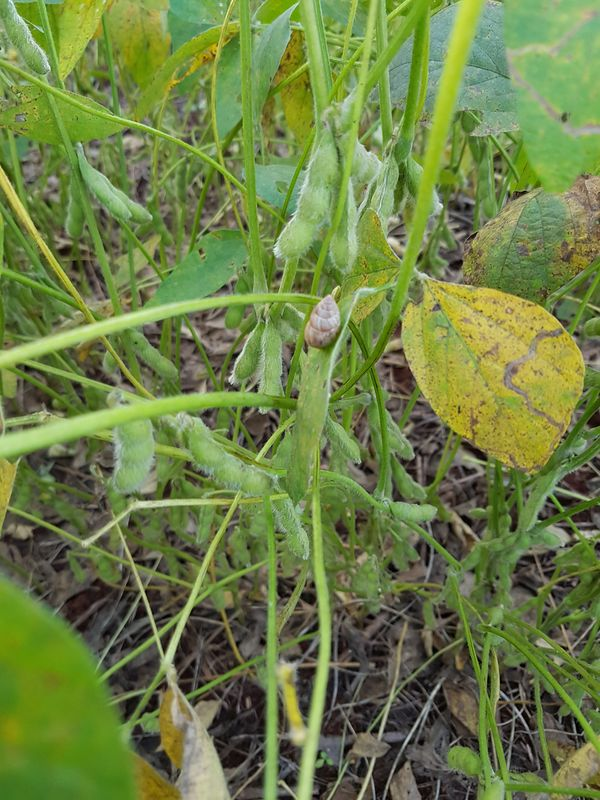Gastropoda: (298, 293, 346, 351)
